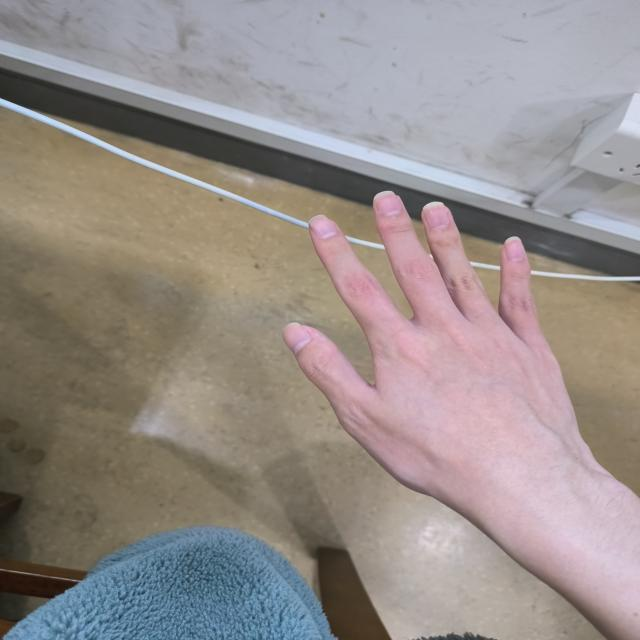Nail: (282, 323, 312, 354), (309, 215, 338, 239), (423, 202, 449, 228), (374, 191, 402, 215), (505, 237, 525, 262)
